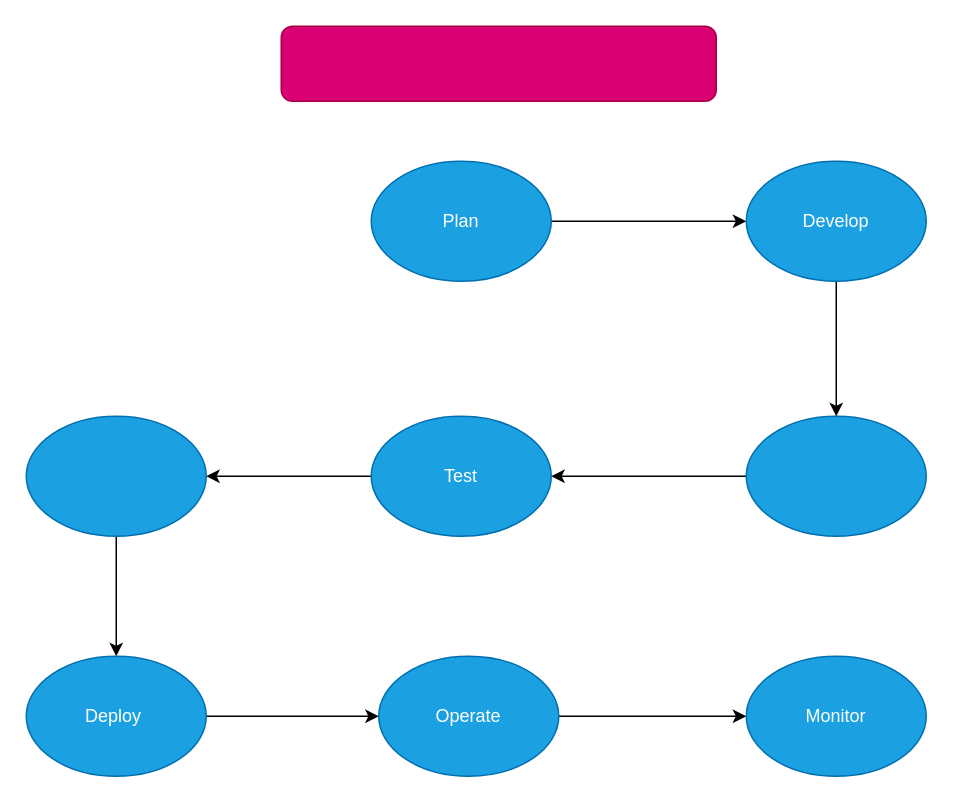
Image size: 953x803. Some labels were removed from this diagram. Here are the shapes that lost their labels. From the top down, the centre of each, then its label:
At point (498, 63): "WEB APPLICATION PROJECT LIFECYLE".
At point (115, 475): "Release".
At point (835, 475): "Build".
